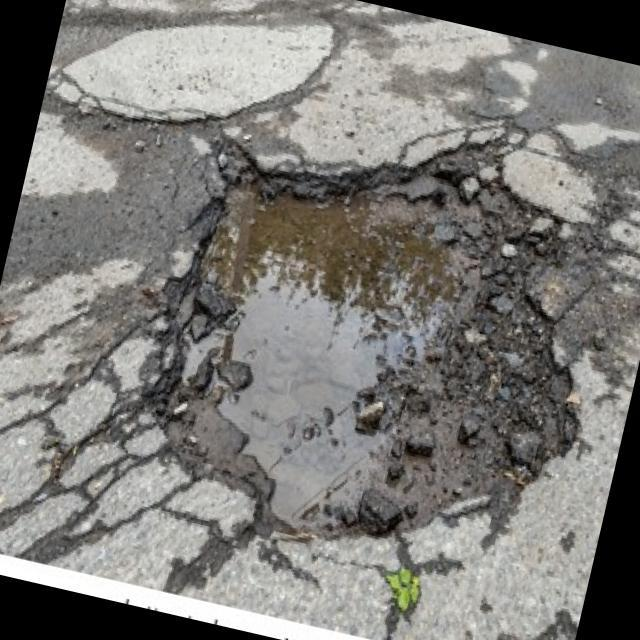Pothole: (114, 82, 636, 608)
